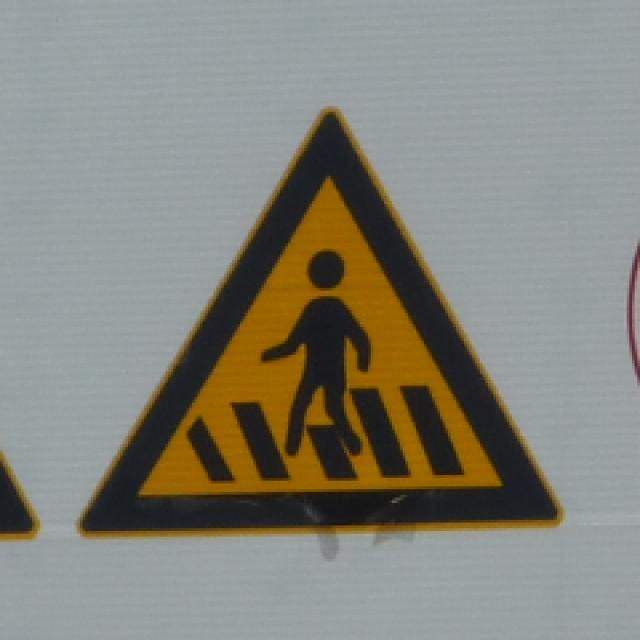Crossing: (63, 79, 582, 555)
